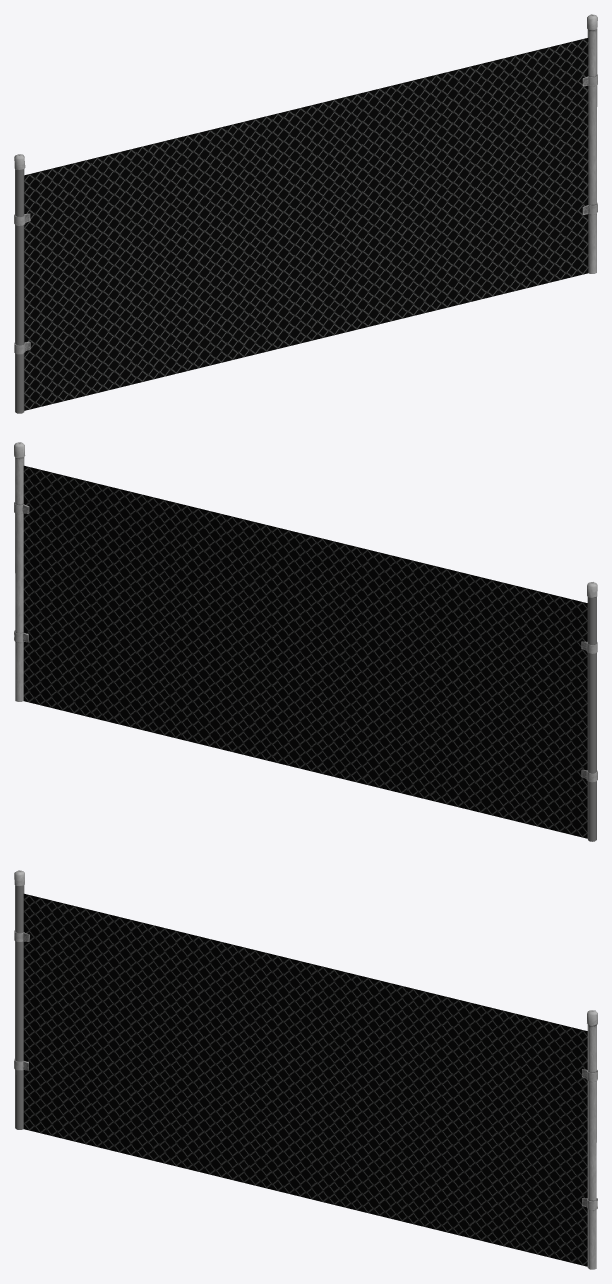
The model's file is fence.glb.
3 renders of one model, top to bottom at view 1: azimuth 30°, elevation 25°; view 2: azimuth 150°, elevation 25°; view 3: azimuth 330°, elevation 25°, orthographic.
Parts seen in each view (by area): view 1: Fencing_low_M_Fencing_0, Brackets_low_M_Posts_0; view 2: Fencing_low_M_Fencing_0, Brackets_low_M_Posts_0; view 3: Fencing_low_M_Fencing_0, Brackets_low_M_Posts_0.
Part boxes in pixels (x1,y1,x2,y2): Fencing_low_M_Fencing_0: (24, 38, 588, 410); Brackets_low_M_Posts_0: (14, 14, 597, 413); Fencing_low_M_Fencing_0: (23, 465, 587, 838); Brackets_low_M_Posts_0: (14, 442, 597, 841); Fencing_low_M_Fencing_0: (23, 893, 587, 1266); Brackets_low_M_Posts_0: (14, 870, 597, 1269).
Size of the model in its own units: 14.24 by 6 by 0.2399.
Materials: 2 (2 with a texture image).
